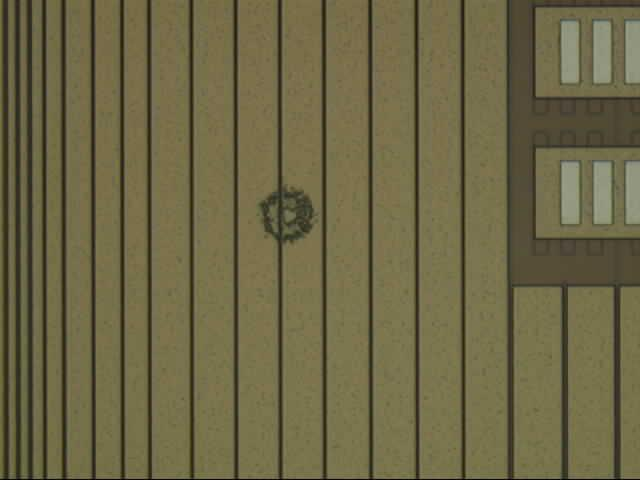PO CONTAMINATION: (254, 182, 322, 250)
